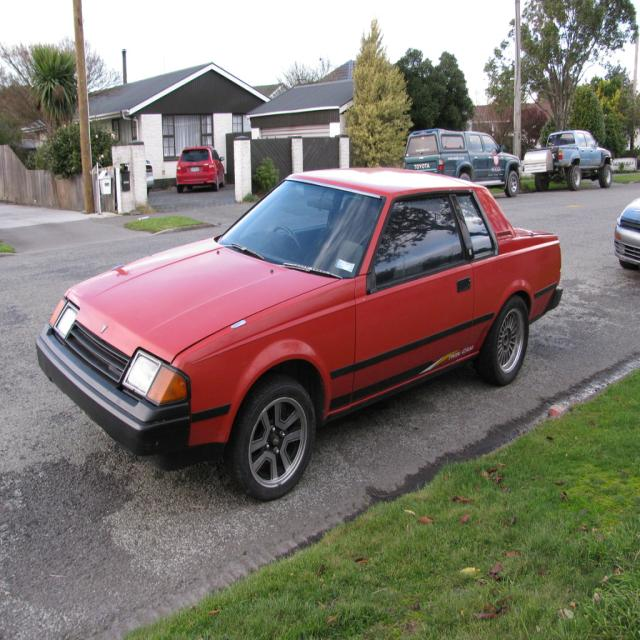car: (36, 166, 564, 499), (173, 141, 223, 188)
